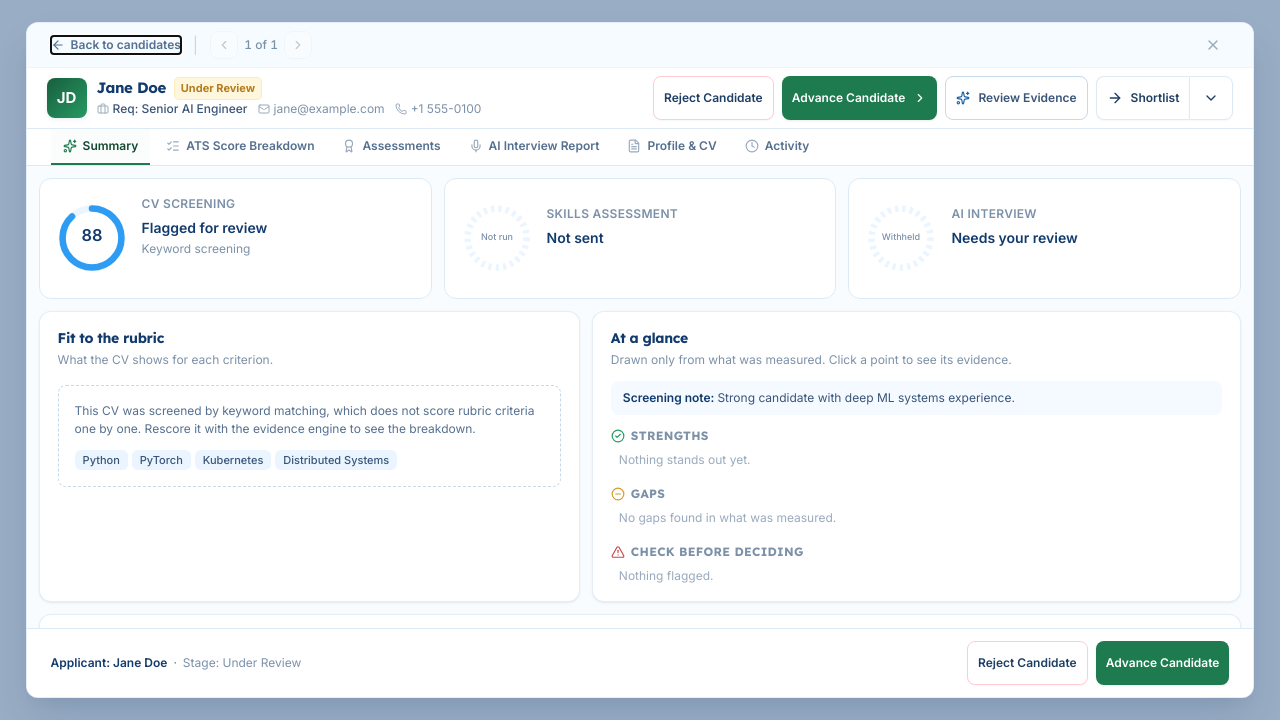
Test: Review Evidence button switches tab to AI Interview Report
Expected: the heading "Jane Doe" is shown, [97,79,166,98]
Click the button "Review Evidence": {"x": 1016, "y": 98} [945,76,1088,120]
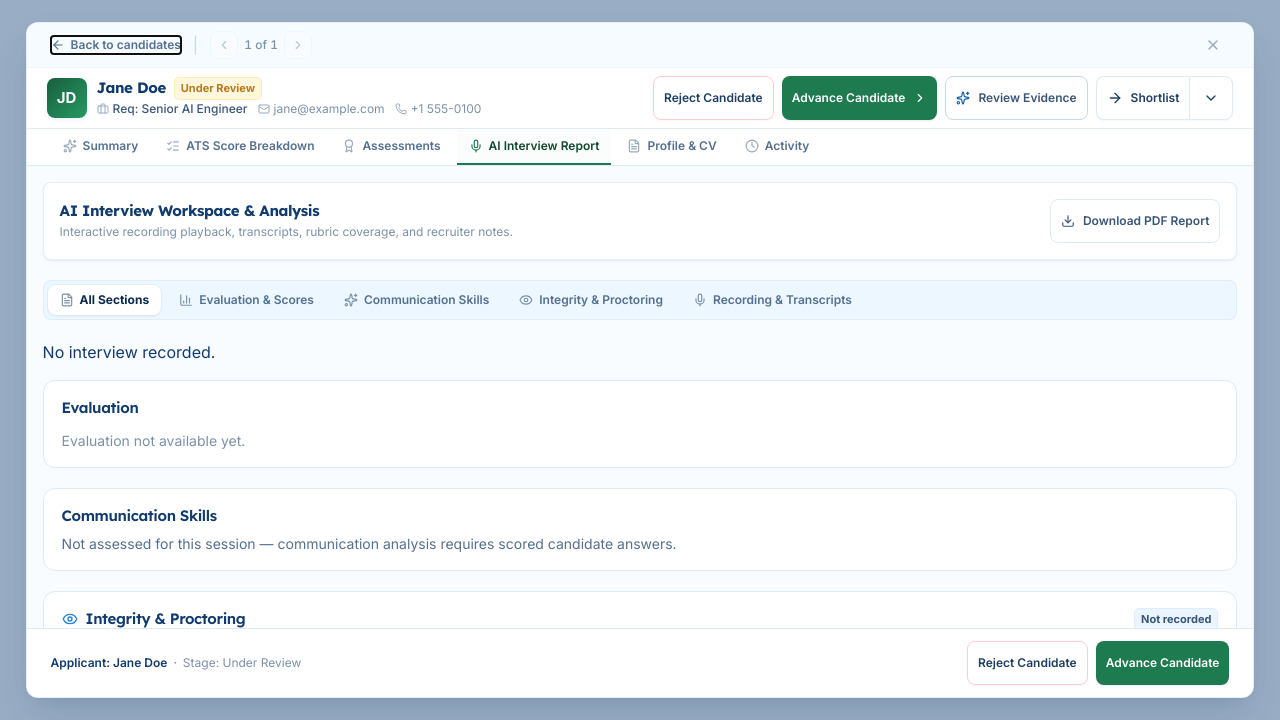
Expected: the tab "AI Interview Report" is shown, [457,129,612,165]
Expected: the heading "AI Interview Workspace & Analysis" is shown, [60,200,319,222]
